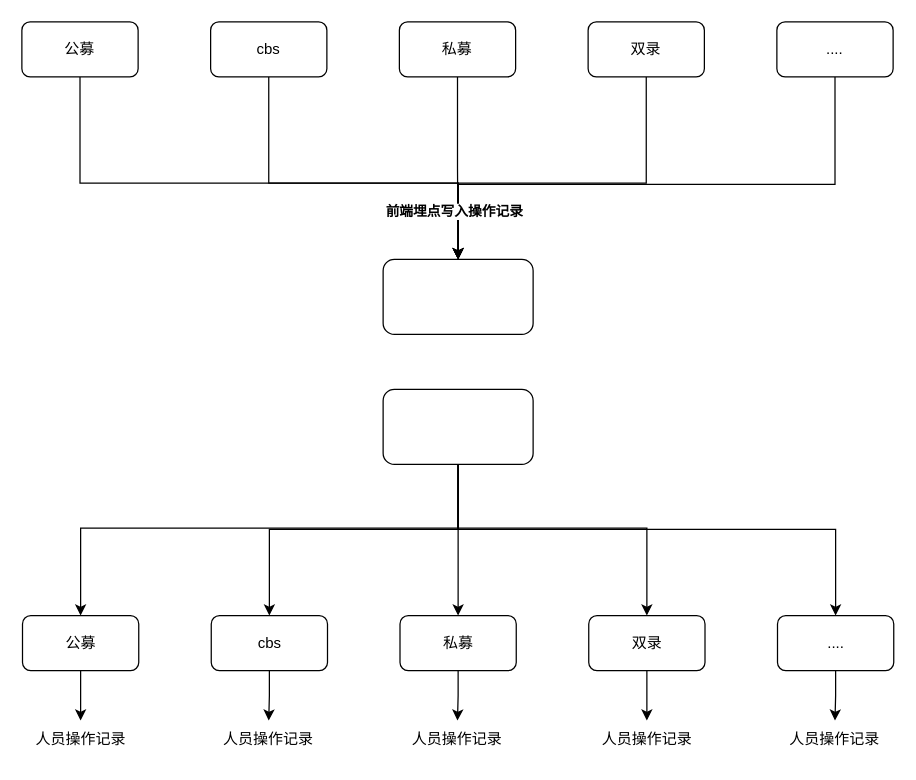
This 916x780 diagram has some shape labels left out. The shapes that lost their labels are listed below. From the top down, each one's box as (x1, y1, x2, y2) in pixels, then its label:
(382, 258, 533, 334): 监控平台服务
(382, 388, 533, 464): 监控平台管理端
